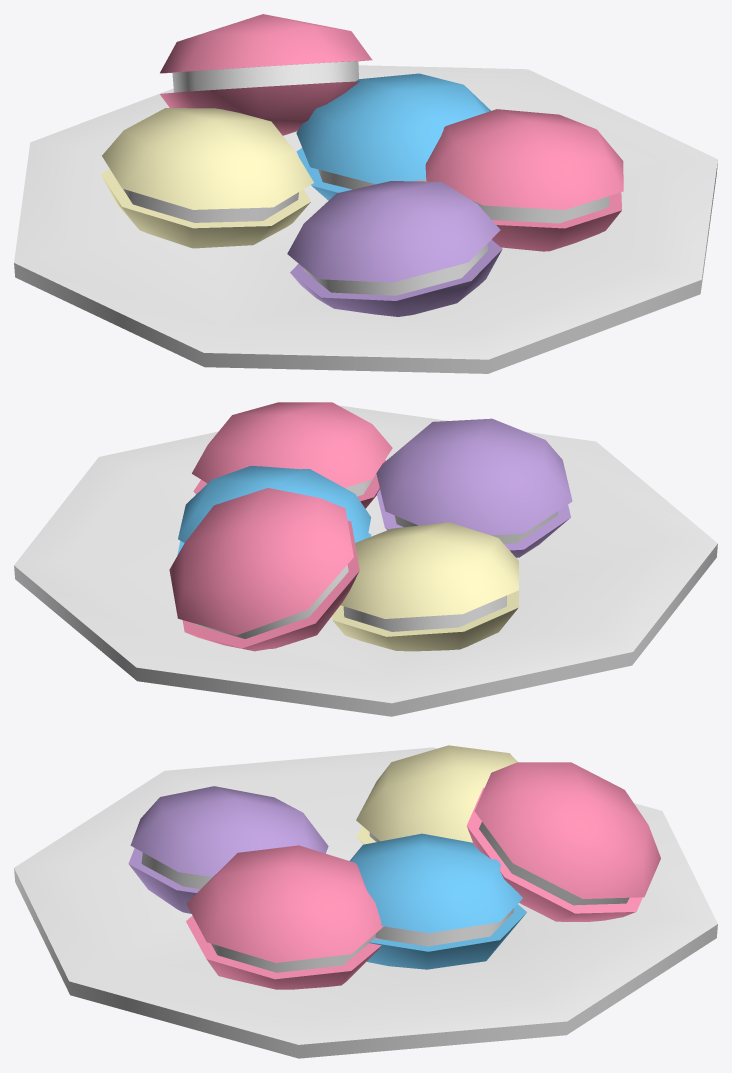
File: SM_dish_001.FBX
3 views of the same model, one above another, from view 1: azimuth 30°, elevation 25°; view 2: azimuth 150°, elevation 25°; view 3: azimuth 270°, elevation 25° (orthographic). The views are drawn at different scales.
Parts seen in each view (by area): view 1: SM_dish_001; view 2: SM_dish_001; view 3: SM_dish_001.
Boxes of the visible parts, left/top/right/bottom form: SM_dish_001: left=14, top=14, right=717, bottom=373; SM_dish_001: left=14, top=402, right=717, bottom=716; SM_dish_001: left=14, top=745, right=717, bottom=1058.
Bounding box in the file's own units: 21.93 × 21.93 × 5.49.
